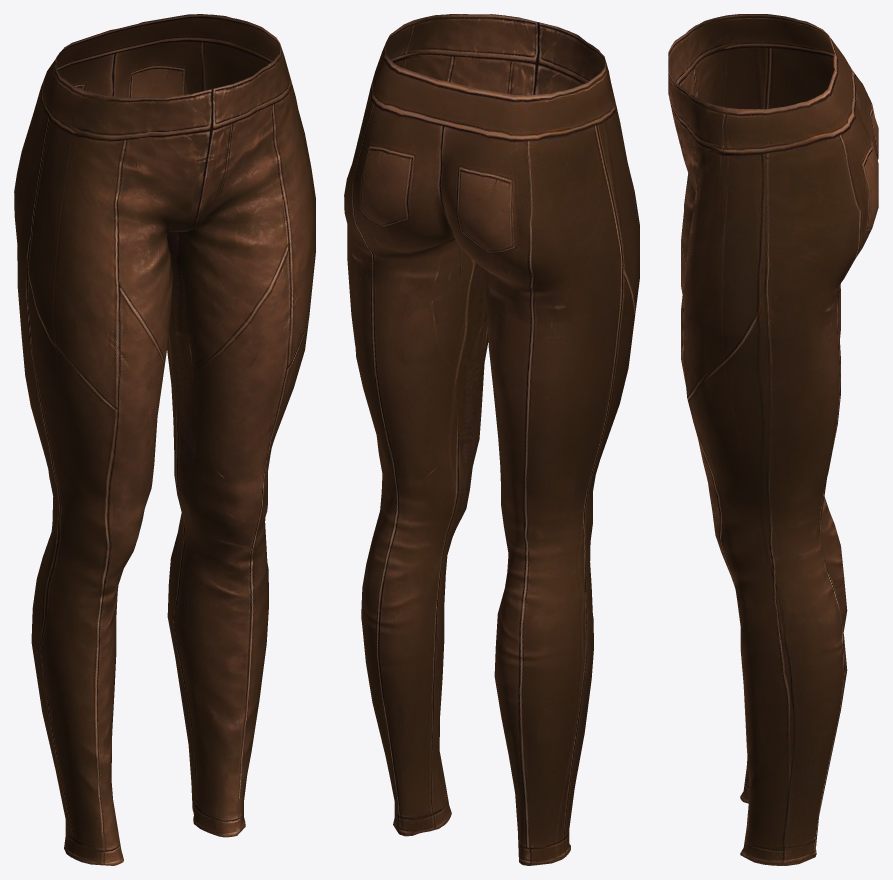
File: LeatherRangedLowerbody.glb
The picture shows the model from 3 angles, left to right: view 1: azimuth 30°, elevation 25°; view 2: azimuth 150°, elevation 25°; view 3: azimuth 270°, elevation 25°; orthographic projection. The views are drawn at different scales.
Visible parts, largest first — view 1: Mesh_0; view 2: Mesh_0; view 3: Mesh_0.
Part boxes in pixels (<box>): Mesh_0: <box>14,14,315,865</box>; Mesh_0: <box>344,14,639,865</box>; Mesh_0: <box>668,14,878,865</box>.
Bounding box in the file's own units: 0.7219 × 2 × 0.4987.
1 material, 1 textured.
